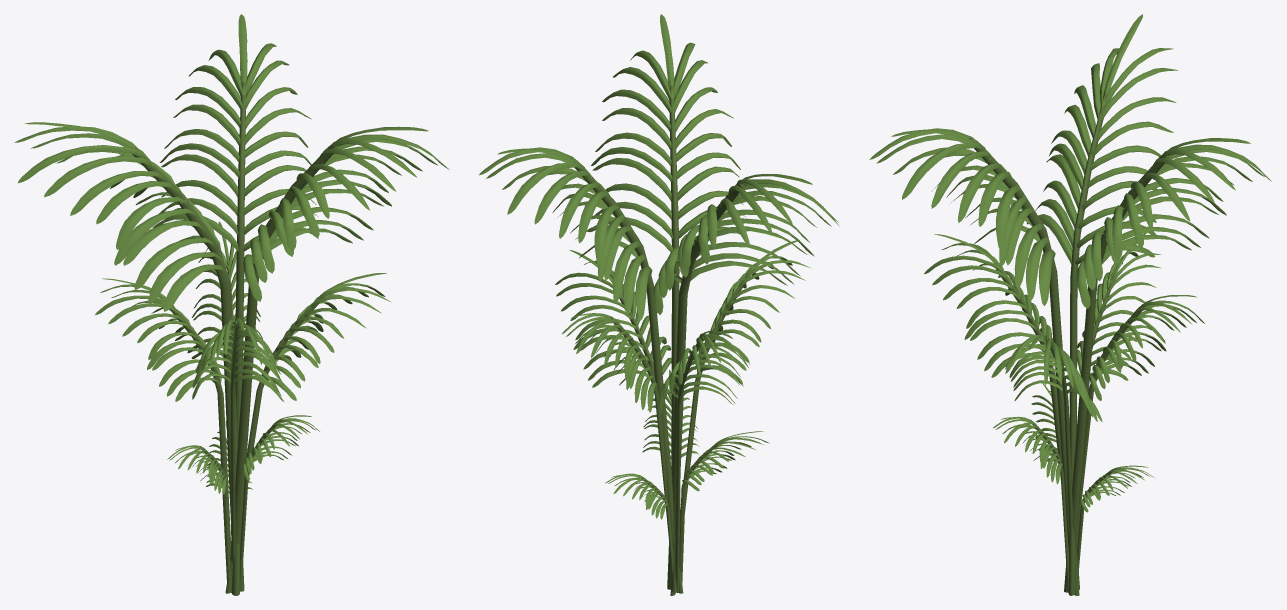
File: TallFernUpdate.fbx
3 renders of one model, left to right at view 1: azimuth 30°, elevation 25°; view 2: azimuth 150°, elevation 25°; view 3: azimuth 270°, elevation 25°, orthographic. The views are drawn at different scales.
Visible parts, largest first — view 1: polySurface222; view 2: polySurface222; view 3: polySurface222.
Part boxes in pixels (box(x1,y1,x2,y2)): polySurface222: box(14, 14, 449, 595); polySurface222: box(479, 14, 839, 595); polySurface222: box(869, 14, 1271, 595).
Bounding box in the file's own units: 2.21 × 3.22 × 2.31.
